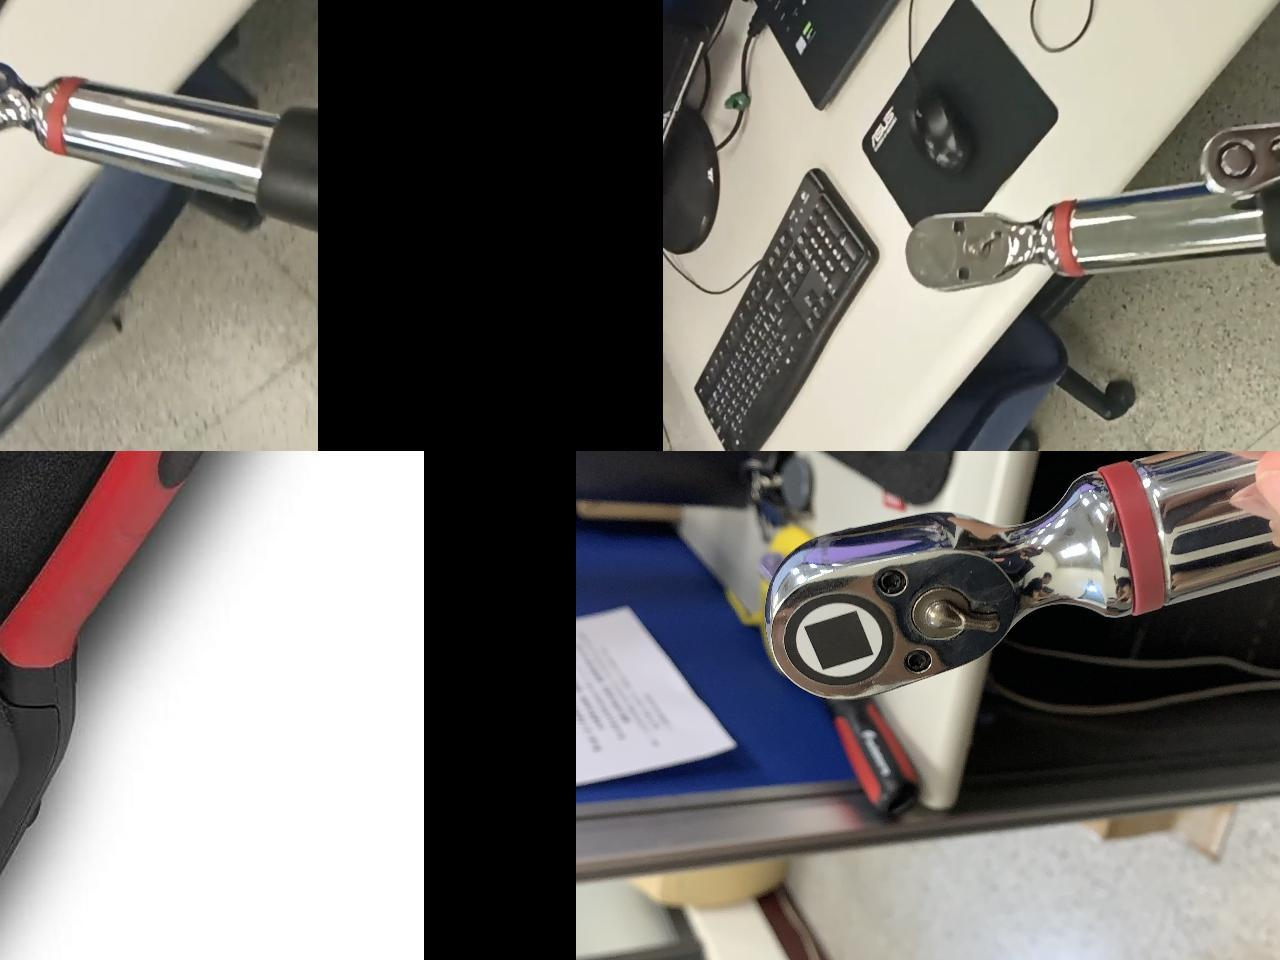Tool: (764, 470, 1121, 708), (900, 194, 1062, 298), (1230, 19, 1280, 124)
